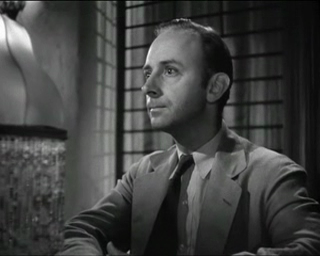face: (141, 43, 197, 131)
mcu: (1, 1, 320, 256)
person: (55, 17, 320, 256)
